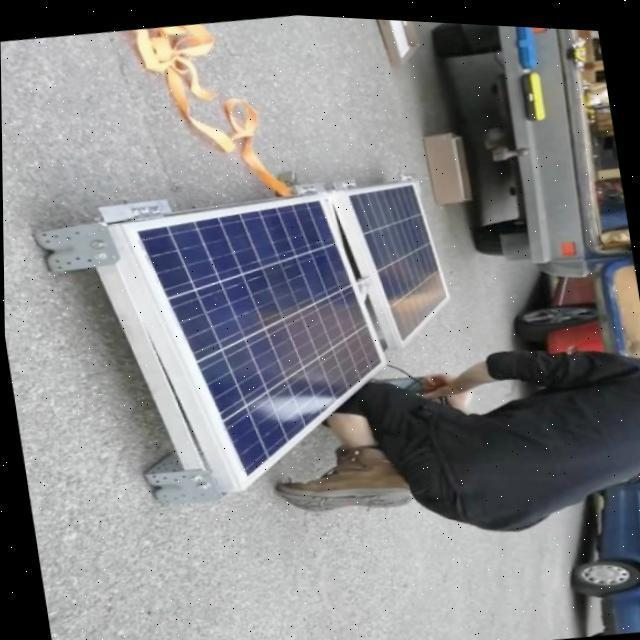Normal Solar Panel: (122, 182, 400, 500), (340, 173, 452, 348)
